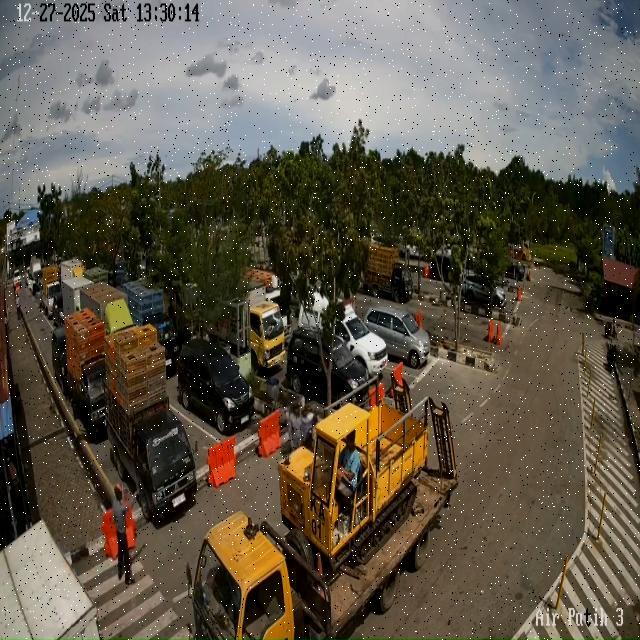Golongan IVA: (177, 338, 255, 435), (286, 327, 370, 404), (364, 306, 430, 368), (462, 272, 506, 308)
Golongan IVB: (104, 400, 200, 524), (63, 359, 121, 438)
Golongan VB: (187, 386, 458, 640), (364, 243, 413, 303)
